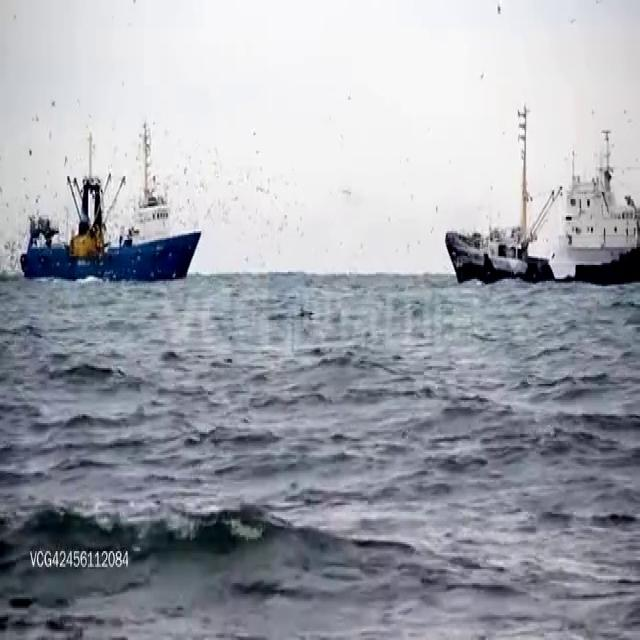houseboat: (446, 124, 640, 294), (15, 132, 202, 280)
